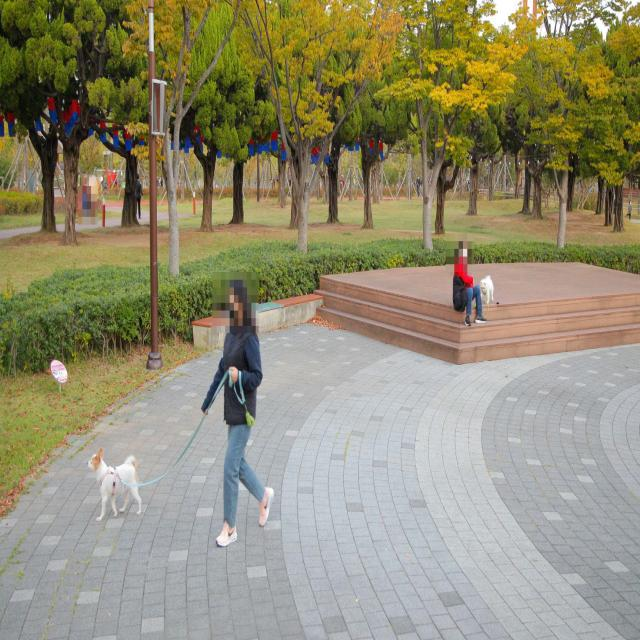Leashed_Dog: (87, 374, 230, 523), (476, 274, 496, 324)
